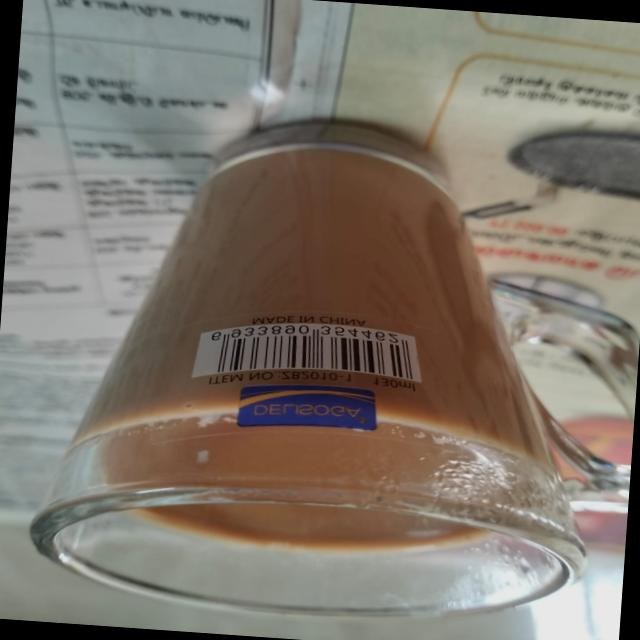glass-VX4N: (24, 98, 640, 640)
